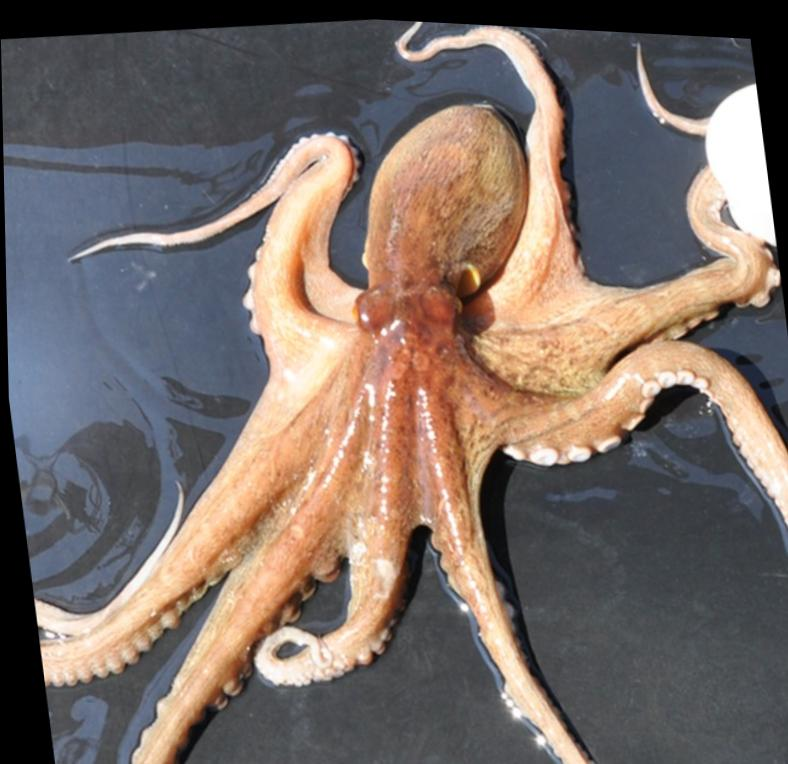Cephalopod: (31, 20, 788, 764)
